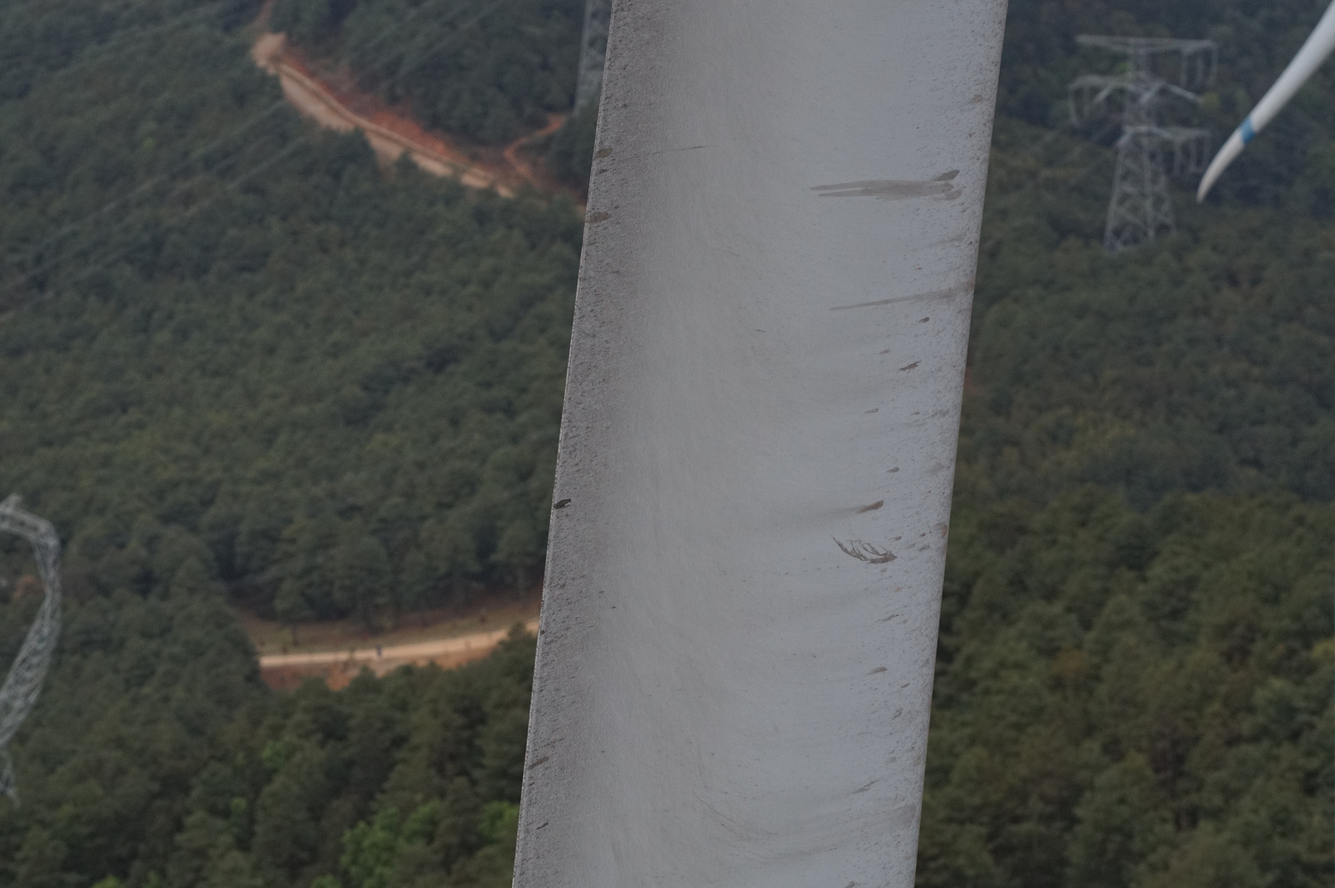Dirt: (830, 534, 900, 569)
